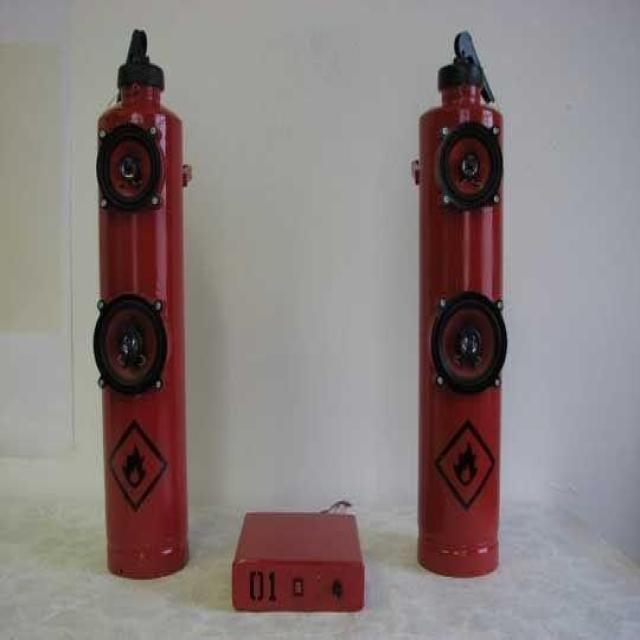fire_extinguisher: (90, 21, 192, 582), (412, 23, 508, 579)
